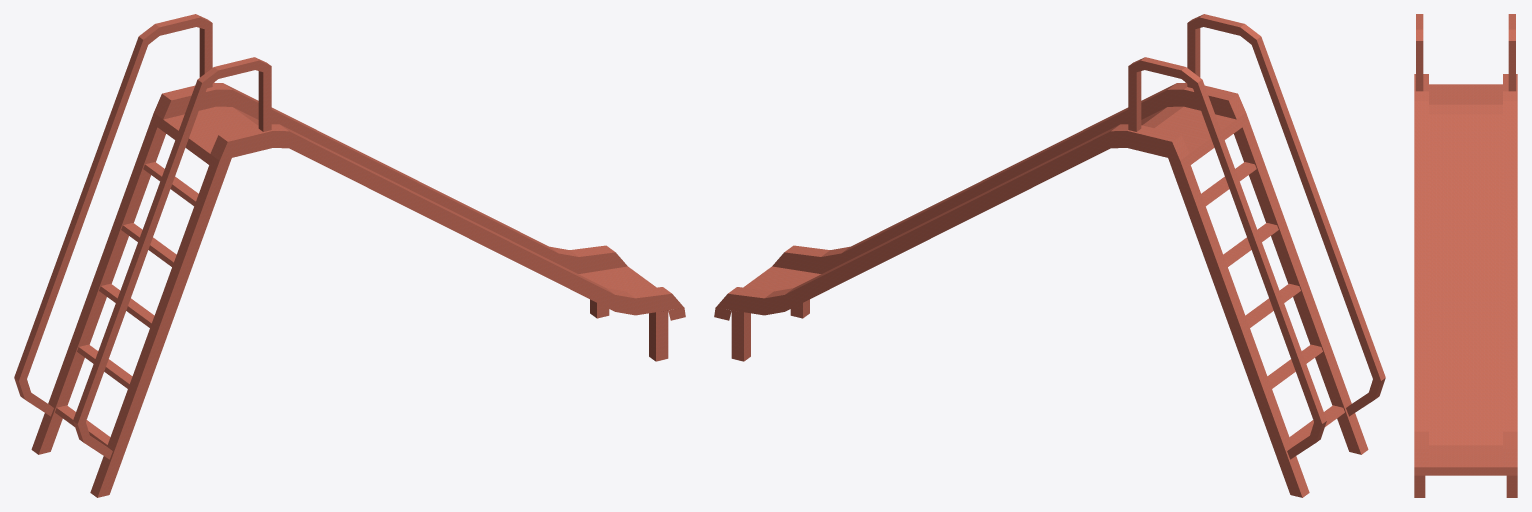
Rendered from Juego2.obj.
3 renders of one model, left to right at view 1: azimuth 30°, elevation 25°; view 2: azimuth 150°, elevation 25°; view 3: azimuth 270°, elevation 25°, orthographic. The views are drawn at different scales.
Parts seen in each view (by area): view 1: Layer_02zc; view 2: Layer_02zc; view 3: Layer_02zc.
Part boxes in pixels (x1,y1,x2,y2): Layer_02zc: (14, 14, 685, 497); Layer_02zc: (714, 14, 1385, 497); Layer_02zc: (1414, 14, 1517, 497).
Size of the model in its own units: 14.89 by 9.3 by 2.8.
1 material, 1 textured.
